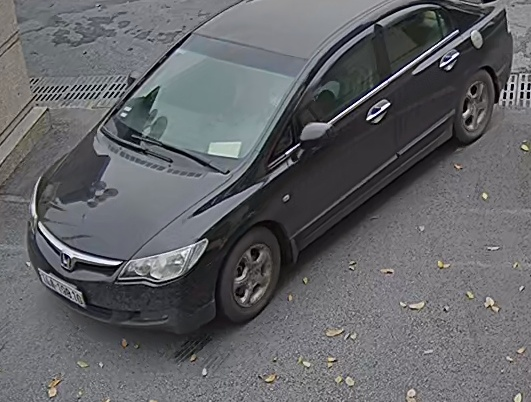vehicle plate: (32, 263, 89, 309)
